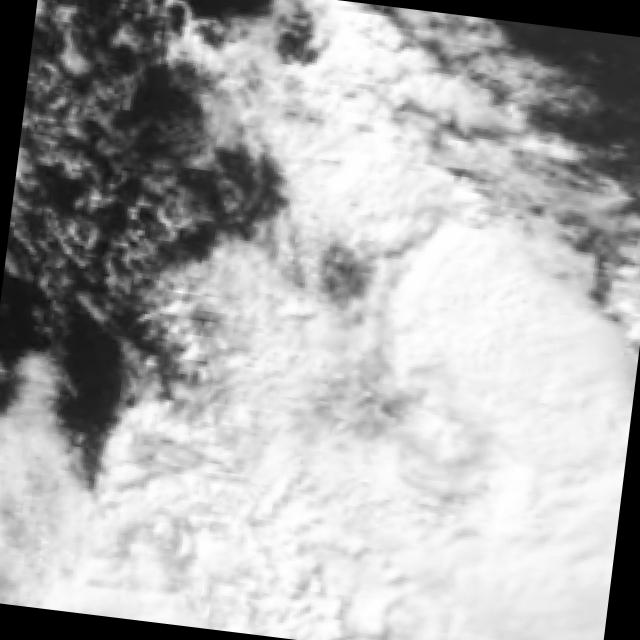CB: (271, 460, 496, 640), (267, 340, 508, 508), (107, 440, 306, 638), (384, 237, 545, 412), (489, 349, 637, 534), (0, 476, 183, 623), (292, 82, 449, 236), (471, 491, 619, 640)
